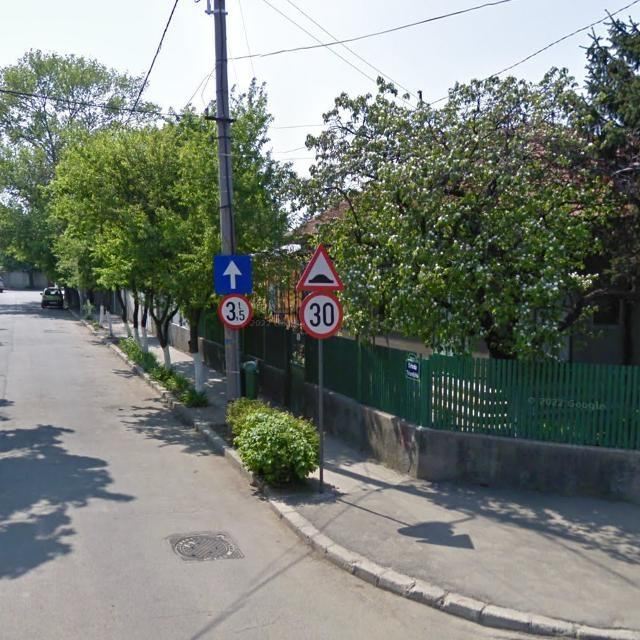forb_speed_over_30: (300, 292, 343, 338)
